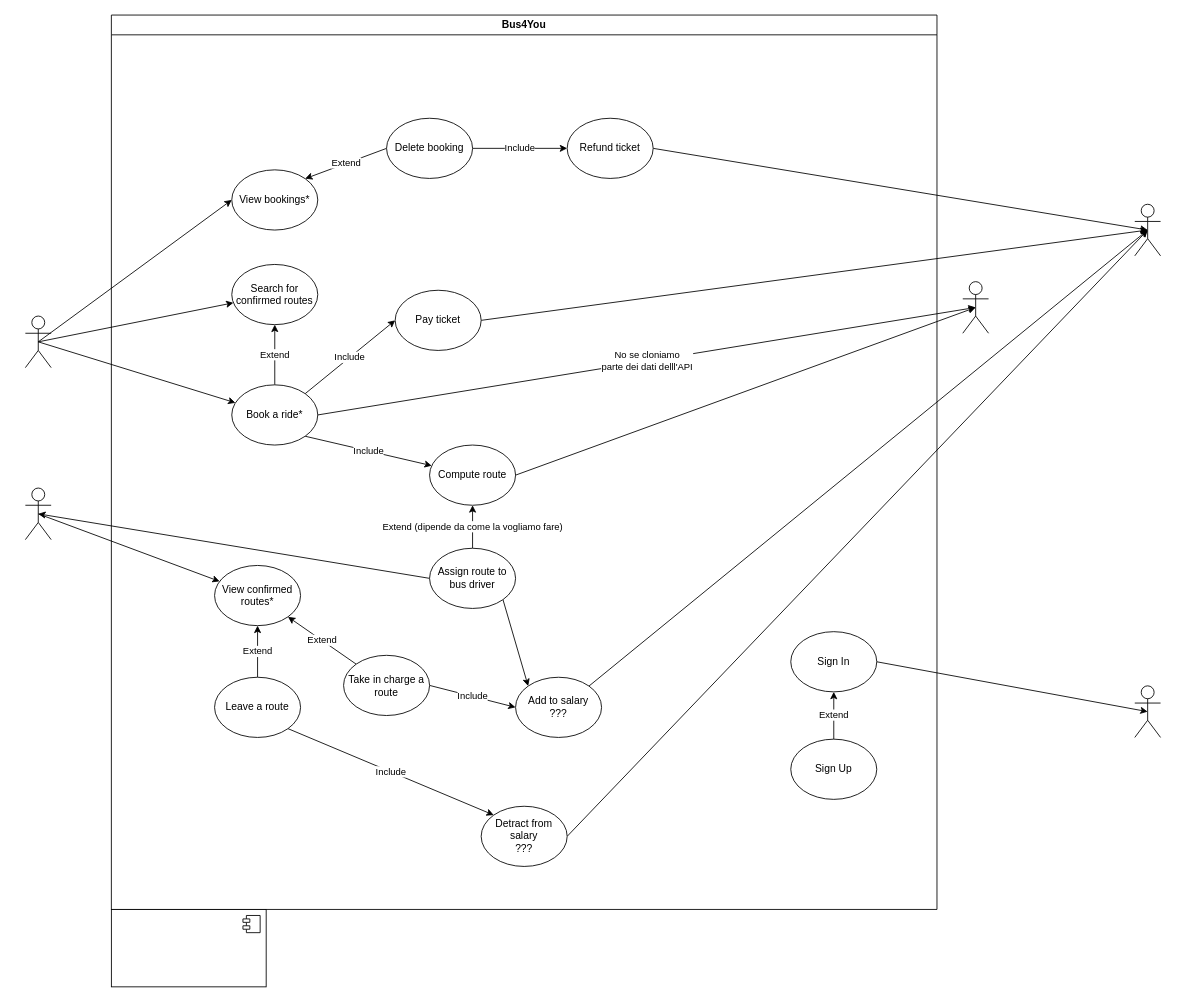
This 1183x1002 diagram has some shape labels left out. The box of each missing label's shape, as (x1, y1, x2, y2) in pixels:
A use case marked with * includes "Sign In" use case.: (111, 909, 266, 987)
Auth API: (1134, 685, 1161, 737)
Bus driver: (25, 487, 51, 540)
Payment API: (1134, 203, 1161, 256)
Snap4City API: (962, 281, 989, 333)
User: (25, 315, 51, 368)
